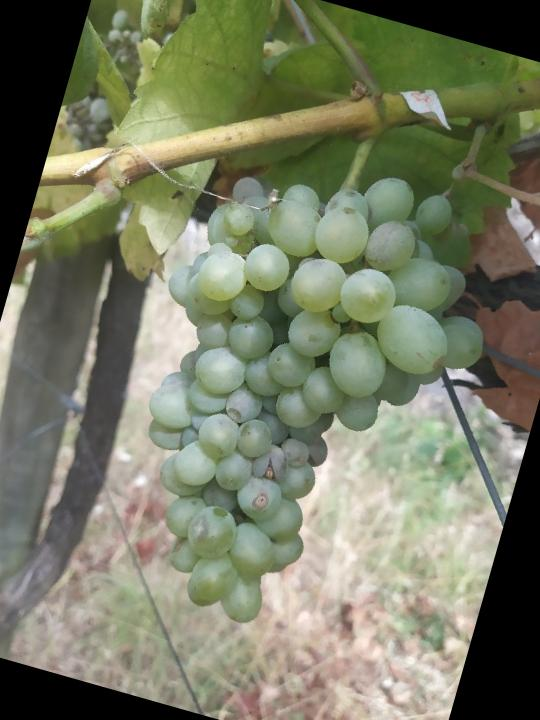grape: (78, 117, 526, 671)
